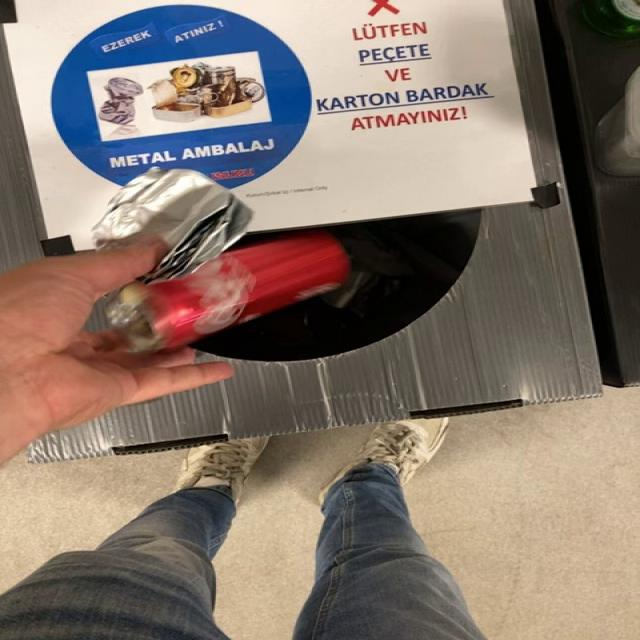bin: (1, 0, 600, 462)
metal: (107, 229, 351, 352), (91, 167, 252, 282)
